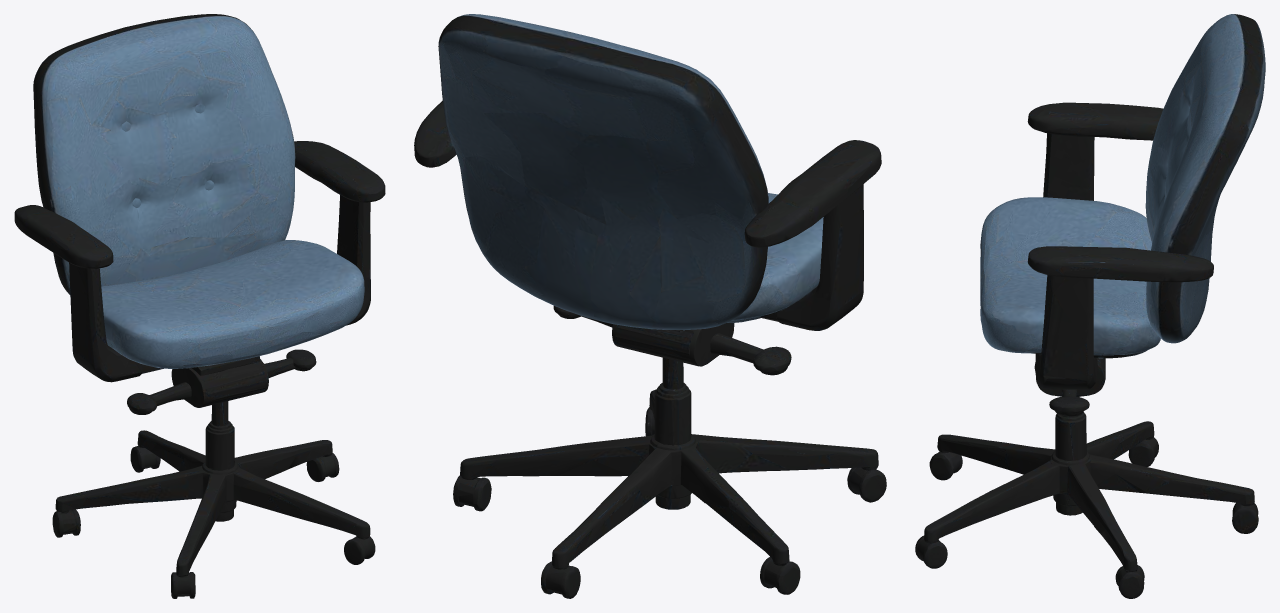
Rendered from os-chair.glb.
3 renders of one model, left to right at view 1: azimuth 30°, elevation 25°; view 2: azimuth 150°, elevation 25°; view 3: azimuth 270°, elevation 25°, orthographic. The views are drawn at different scales.
Size of the model in its own units: 1.4 by 1.9 by 1.28.
1 material, 1 textured.
